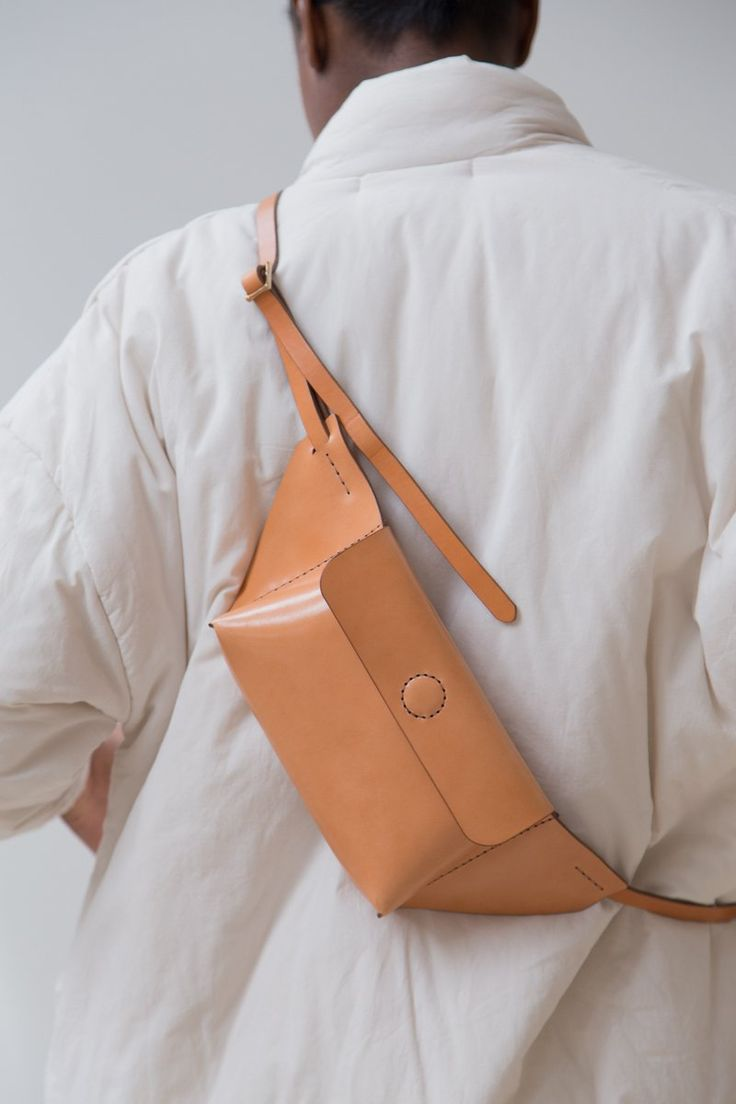cuero: (211, 195, 736, 933)
